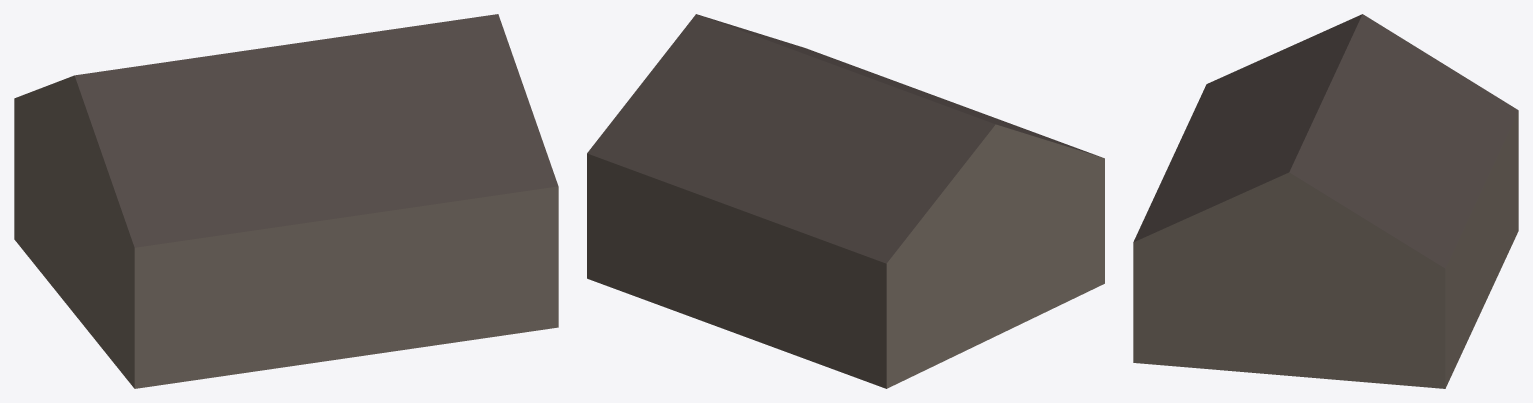
3 renders of one model, left to right at view 1: azimuth 30°, elevation 25°; view 2: azimuth 150°, elevation 25°; view 3: azimuth 270°, elevation 25°, orthographic. The views are drawn at different scales.
Parts seen in each view (by area): view 1: HP-w859082538; view 2: HP-w859082538; view 3: HP-w859082538.
Part boxes in pixels (x1,y1,x2,y2): HP-w859082538: (14, 14, 558, 388); HP-w859082538: (587, 14, 1104, 388); HP-w859082538: (1133, 14, 1518, 388).
Size of the model in its own units: 19.73 by 10.15 by 17.43.
